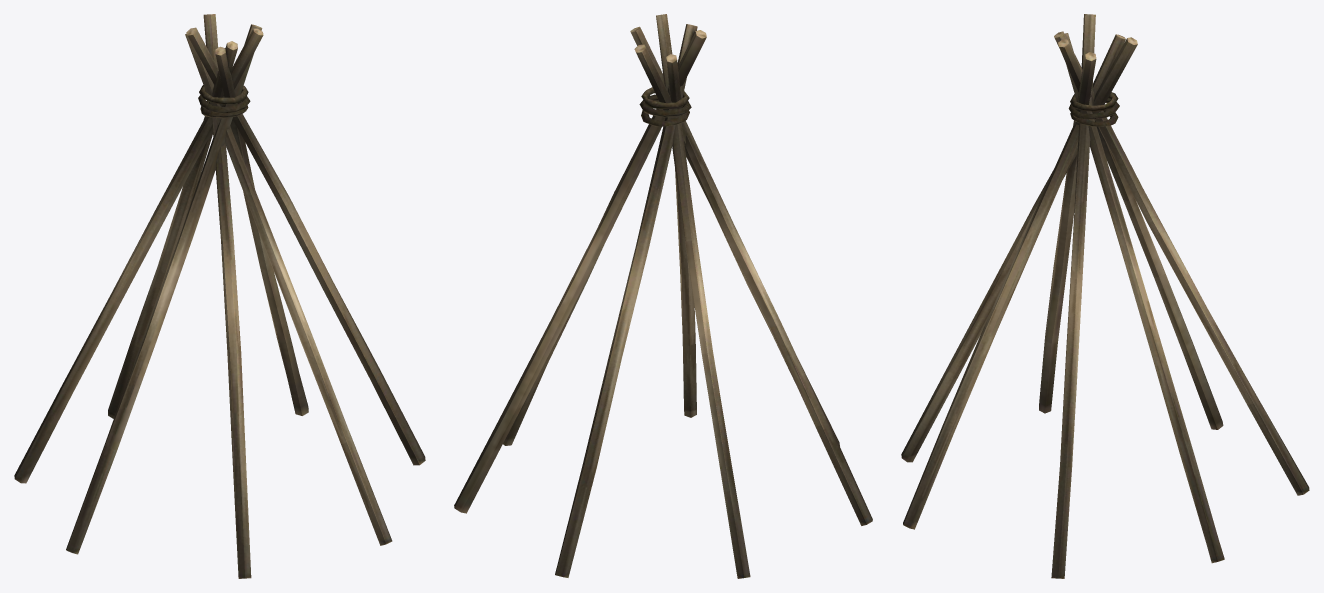
File: healer_hut_poles.gltf
The picture shows the model from 3 angles, left to right: view 1: azimuth 30°, elevation 25°; view 2: azimuth 150°, elevation 25°; view 3: azimuth 270°, elevation 25°; orthographic projection.
Parts seen in each view (by area): view 1: healer_hut_poles; view 2: healer_hut_poles; view 3: healer_hut_poles.
Part boxes in pixels (x1,y1,x2,y2): healer_hut_poles: (14,14,425,578); healer_hut_poles: (454,14,872,578); healer_hut_poles: (901,14,1309,578).
Size of the model in its own units: 2.22 by 2.76 by 2.18.
2 materials, 2 textured.
